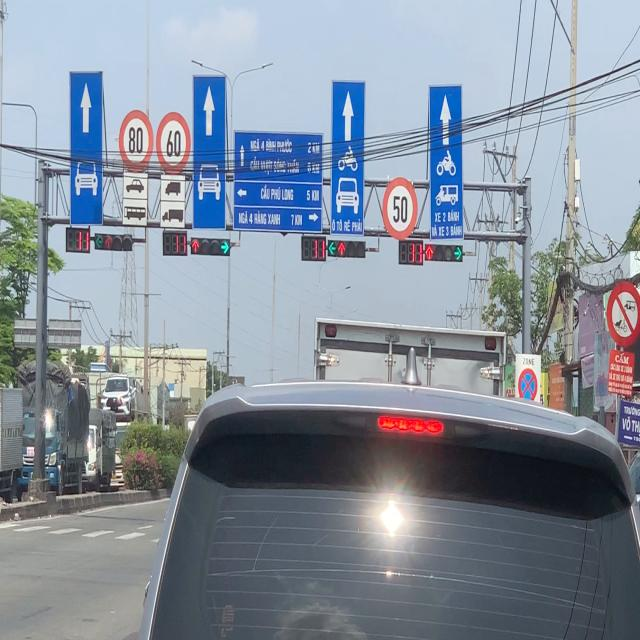Cam con lai: (606, 281, 640, 347)
Cam dung va do: (518, 368, 538, 404)
Toc do toi da: (118, 109, 154, 173), (382, 177, 418, 240), (156, 111, 191, 175)
